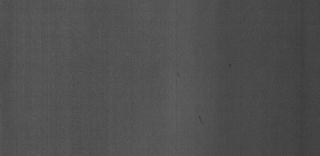water spot: (197, 114, 213, 128), (226, 62, 240, 70), (172, 70, 184, 78)
